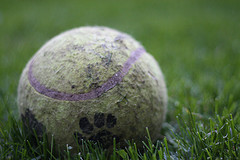tennis ball: (16, 23, 170, 158)
